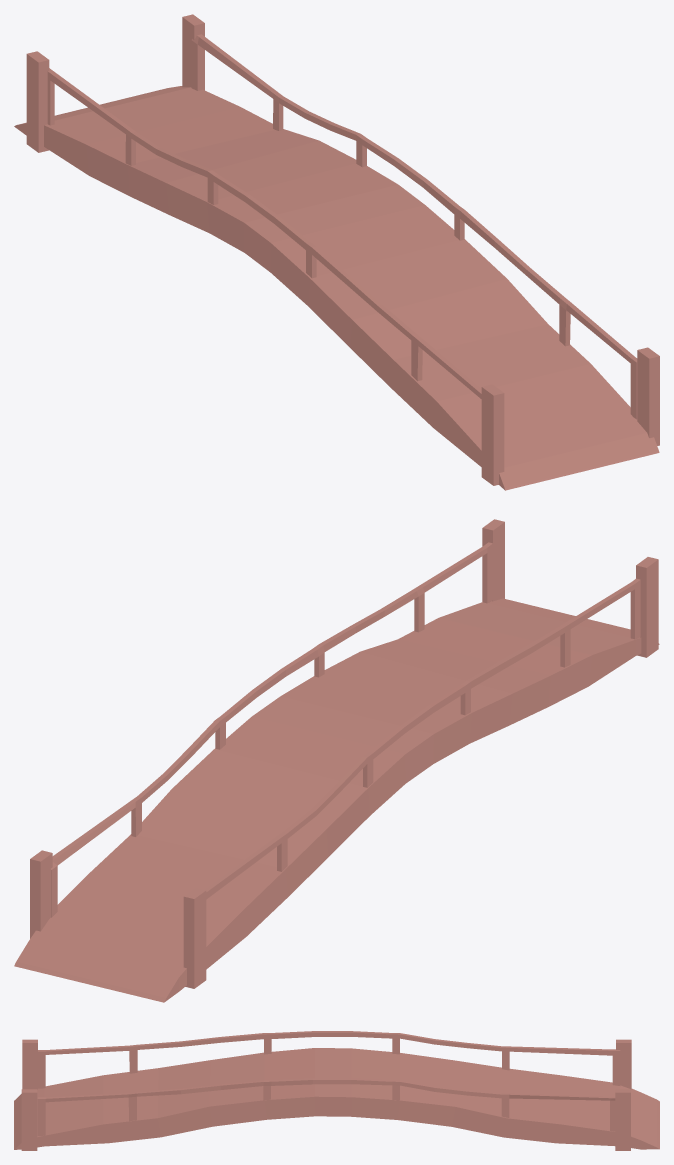
Rendered from puente1.glb.
3 views of the same model, one above another, from view 1: azimuth 30°, elevation 25°; view 2: azimuth 150°, elevation 25°; view 3: azimuth 270°, elevation 25° (orthographic). The views are drawn at different scales.
Visible parts, largest first — view 1: puente; view 2: puente; view 3: puente.
Boxes of the visible parts, <box> form: puente: <box>14,14,659,490</box>; puente: <box>14,519,659,1002</box>; puente: <box>14,1031,659,1150</box>.
Size of what is drawn, in the model's own units: 3.43 by 2.1 by 17.75.
Materials: 1 (1 with a texture image).
